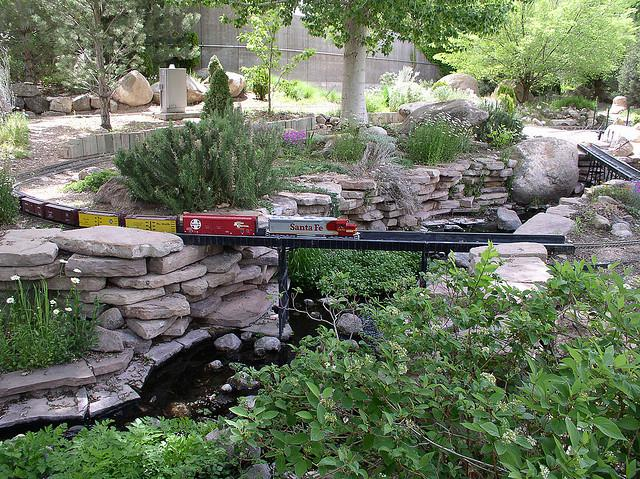Train: (17, 191, 361, 237)
